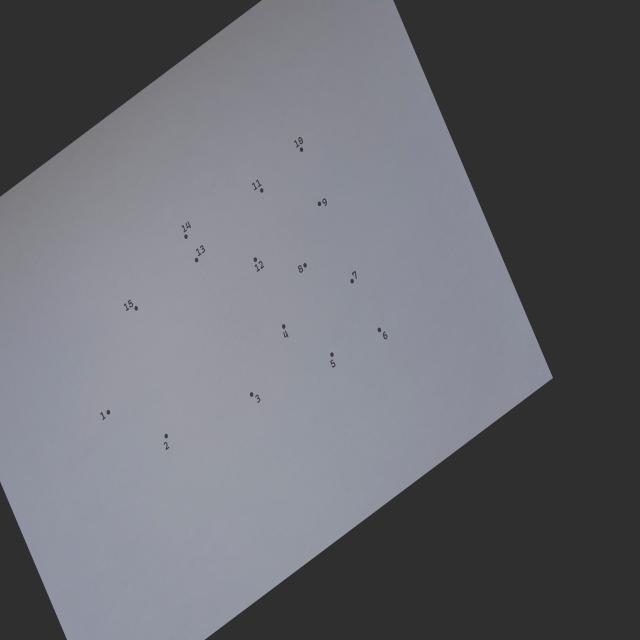Dot: (134, 305, 138, 311), (303, 262, 307, 268), (350, 278, 354, 284), (184, 234, 188, 239), (282, 324, 286, 329), (330, 352, 334, 357), (260, 188, 264, 193), (318, 201, 321, 207), (106, 410, 110, 414), (164, 434, 168, 438), (254, 257, 257, 262), (250, 392, 253, 397), (300, 147, 303, 152), (195, 258, 198, 262), (378, 328, 381, 332)
DotNumber: (181, 220, 191, 240), (195, 245, 205, 263), (124, 299, 138, 311), (252, 179, 264, 193), (253, 257, 264, 272), (294, 136, 304, 152), (377, 327, 388, 340), (163, 434, 170, 451), (100, 410, 111, 420), (250, 392, 260, 403), (298, 262, 307, 273), (350, 270, 357, 284), (330, 352, 336, 368), (318, 198, 328, 207), (282, 324, 288, 338)
Number: (254, 261, 264, 272), (124, 299, 133, 311), (182, 221, 191, 233), (196, 245, 205, 257), (294, 136, 303, 148), (252, 180, 262, 190), (163, 442, 170, 451), (352, 270, 358, 280), (255, 394, 261, 403), (330, 359, 336, 368), (100, 412, 106, 420), (283, 330, 289, 338), (383, 331, 388, 340), (322, 198, 327, 207), (298, 265, 303, 273)
